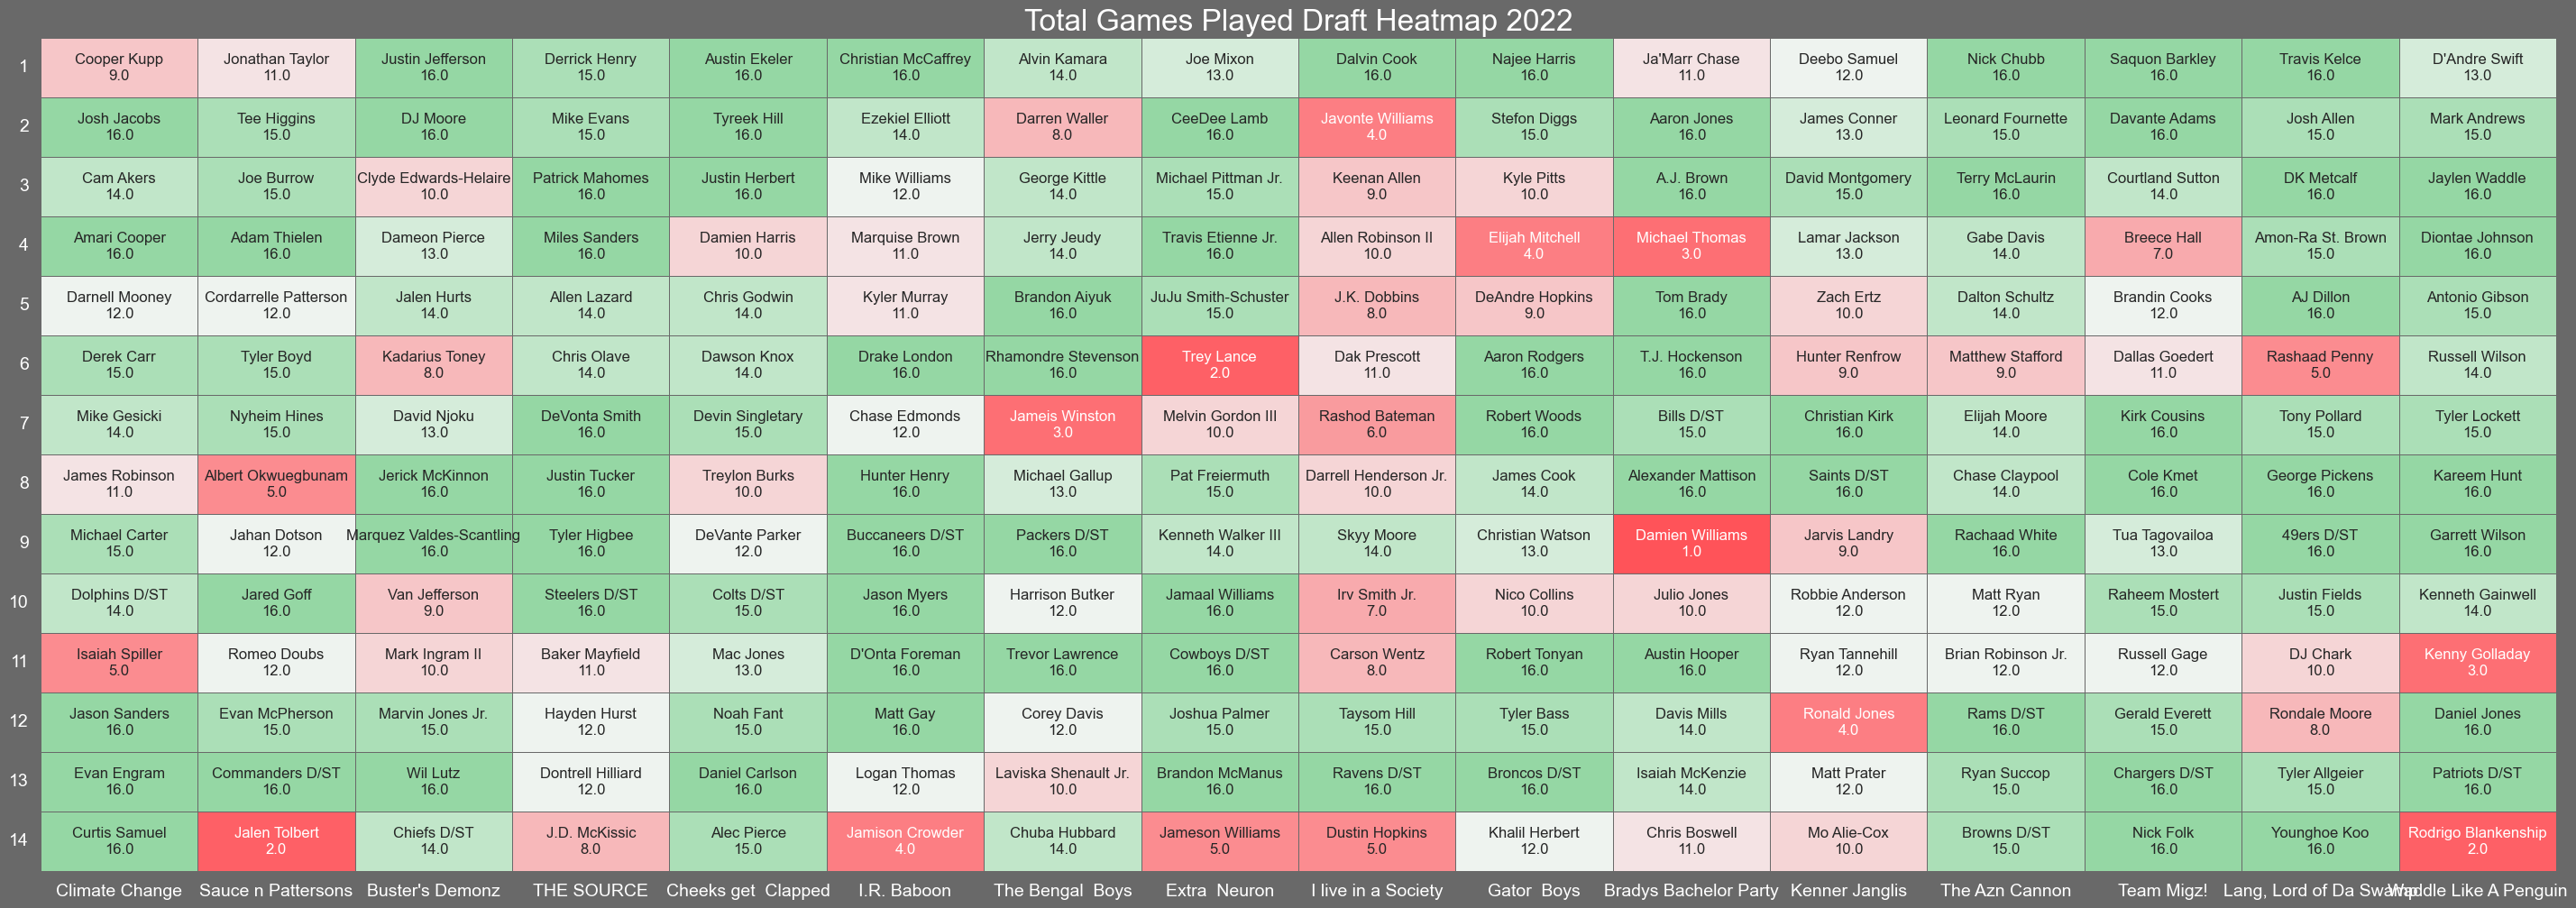

This screenshot's page, from the dashboard's own definition file:
{"tool":"powerbi","page":{"name":"Page 3","canvas":[1280,720],"ordinal":2},"visuals":[{"type":"pivotTable","fields":{"Rows":["Query1.round","Query1.playername"],"Columns":["Query1.pick"],"Values":["Sum(Query1.total)"]},"box":[0,0,1280,720],"z":1}]}

Visuals, with their boxes on the page's 1280x720 design canvas (x1, y1, x2, y2). These are canvas units, not pixel positions in the 2576x908 screenshot, which may show the page scaled, cropped or inside an application window:
pivotTable - Query1.round x Query1.playername: rect(0, 0, 1280, 720)
